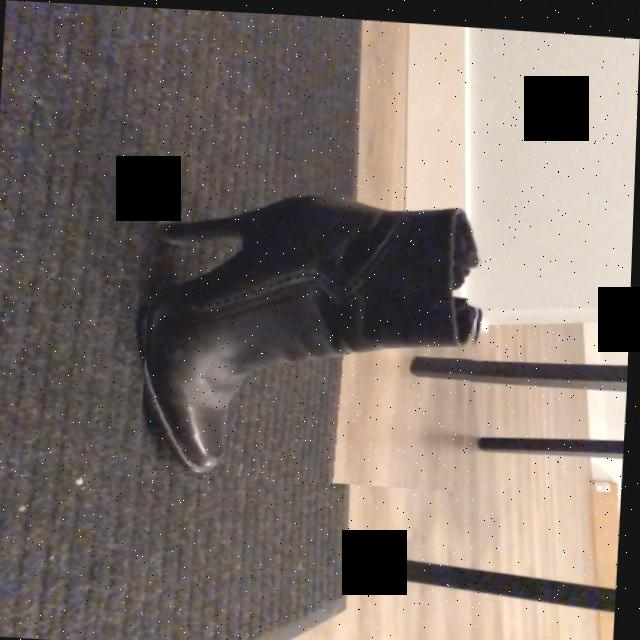shoe: (147, 193, 482, 472)
